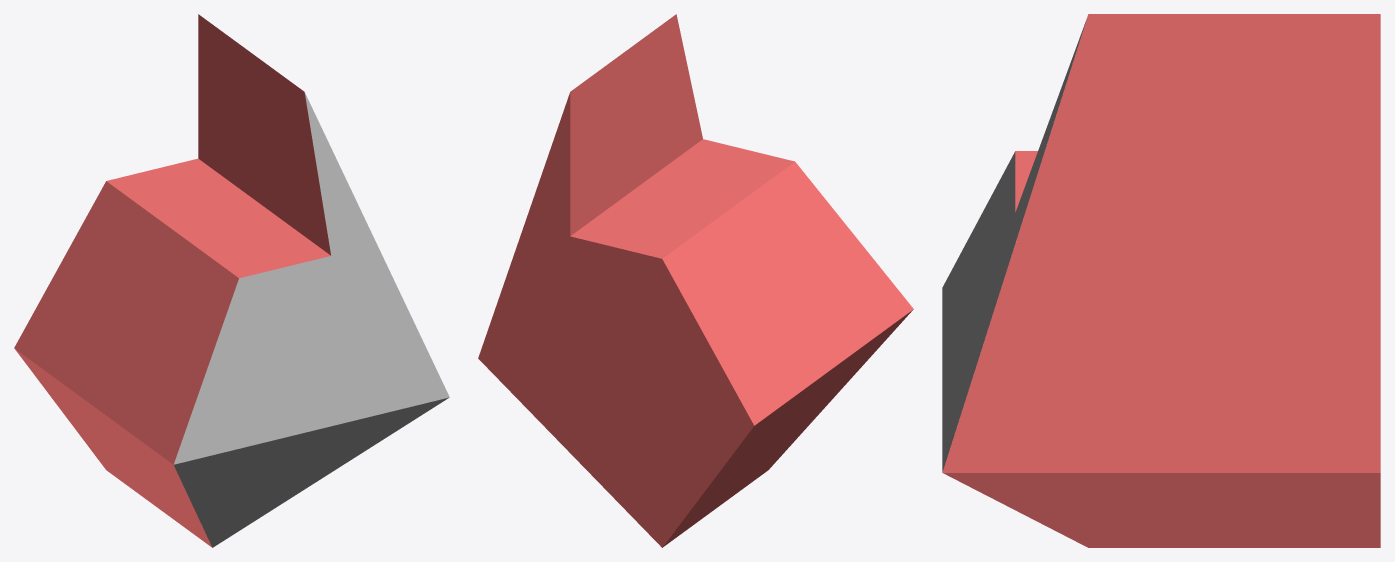
3 renders of one model, left to right at view 1: azimuth 30°, elevation 25°; view 2: azimuth 150°, elevation 25°; view 3: azimuth 270°, elevation 25°, orthographic. The views are drawn at different scales.
Parts seen in each view (by area): view 1: 36-6.SLDPRT; view 2: 36-6.SLDPRT; view 3: 36-6.SLDPRT.
Boxes of the visible parts, x1=… form: 36-6.SLDPRT: x1=14, y1=14, x2=449, y2=547; 36-6.SLDPRT: x1=478, y1=14, x2=913, y2=547; 36-6.SLDPRT: x1=942, y1=14, x2=1380, y2=547.
Size of the model in its own units: 0.03 by 0.045 by 0.03.
